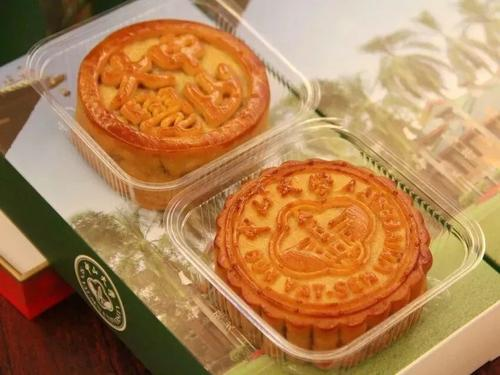MoonCake: (213, 158, 433, 368), (75, 18, 271, 210)
